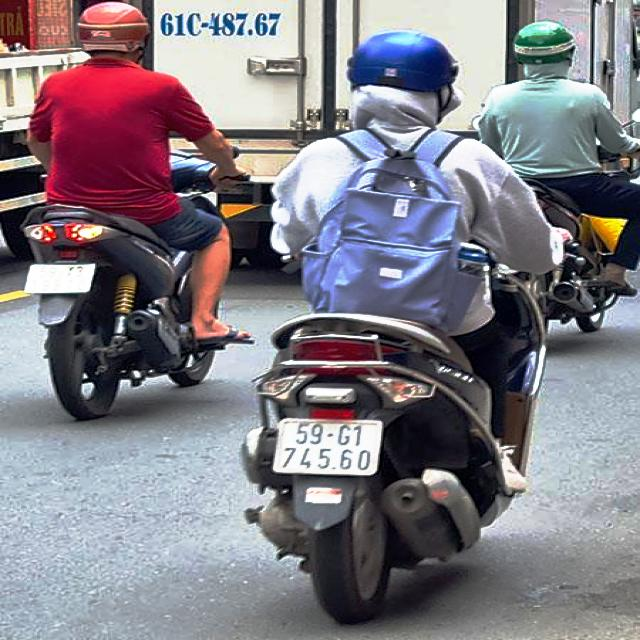license_plate: (272, 422, 385, 473)
